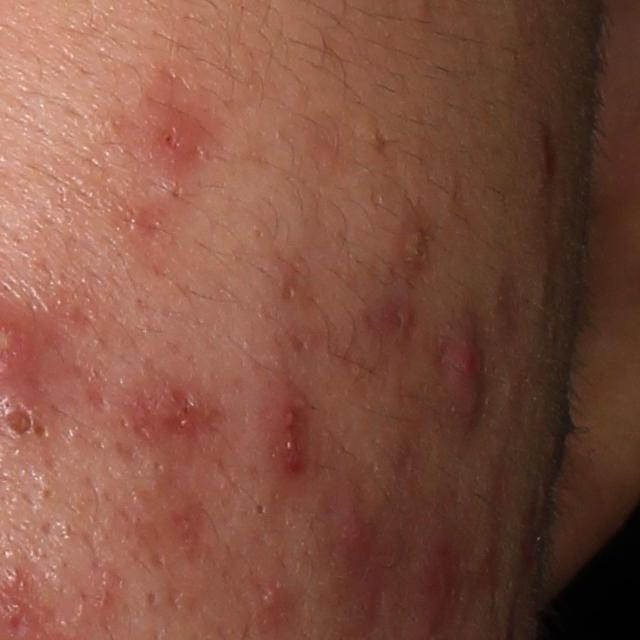comedo: (138, 587, 162, 612), (37, 481, 56, 503), (277, 284, 294, 306), (252, 500, 270, 519)
papule: (112, 368, 222, 452), (128, 101, 213, 186), (434, 318, 482, 421), (327, 492, 375, 578), (273, 403, 311, 479), (259, 583, 290, 618)
